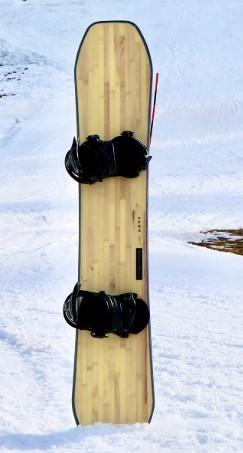Snowboard: (60, 12, 160, 435)
